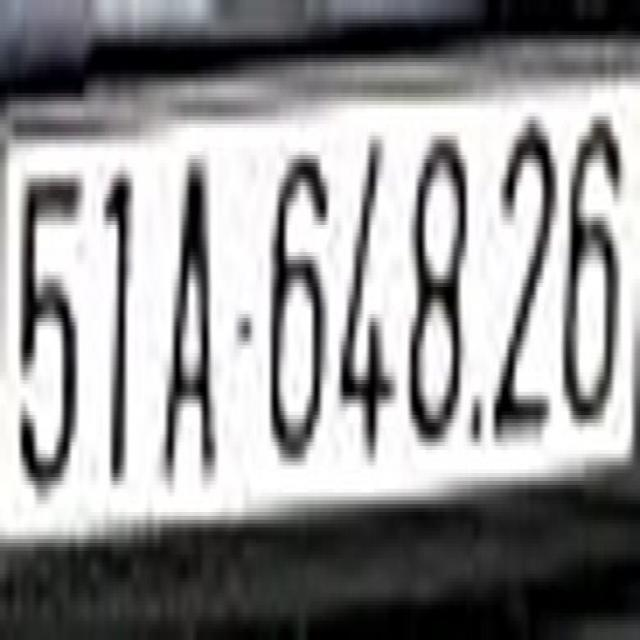1: (101, 143, 132, 481)
2: (496, 109, 554, 438)
4: (344, 143, 392, 454)
5: (19, 170, 80, 504)
6: (566, 116, 620, 419), (272, 151, 326, 446)
8: (408, 128, 463, 434)
A: (166, 151, 217, 473)
